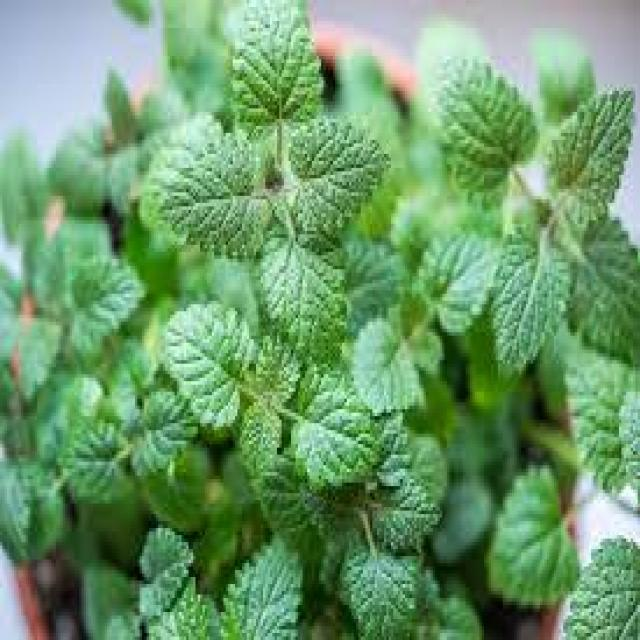healthy_leaf: (134, 34, 628, 621)
